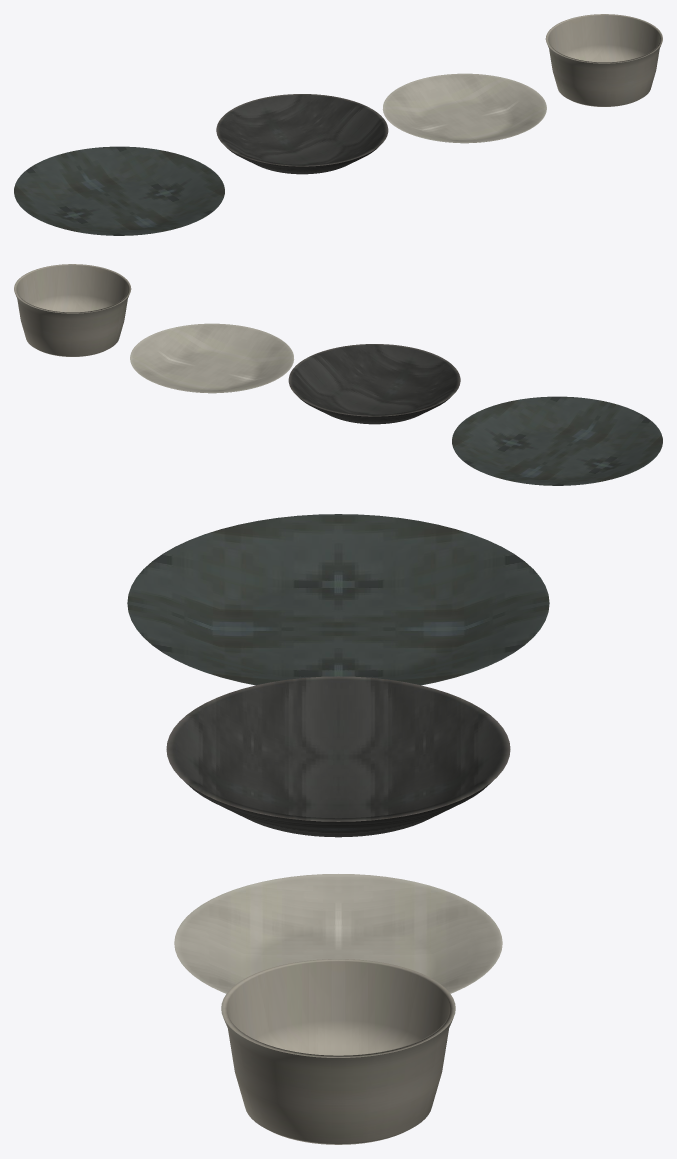
Rendered from RAY-04.glb.
The picture shows the model from 3 angles, top to bottom: view 1: azimuth 30°, elevation 25°; view 2: azimuth 150°, elevation 25°; view 3: azimuth 270°, elevation 25°; orthographic projection. The views are drawn at different scales.
Bounding box in the file's own units: 0.926 × 0.07 × 0.27.
Materials: 8 (8 with a texture image).
